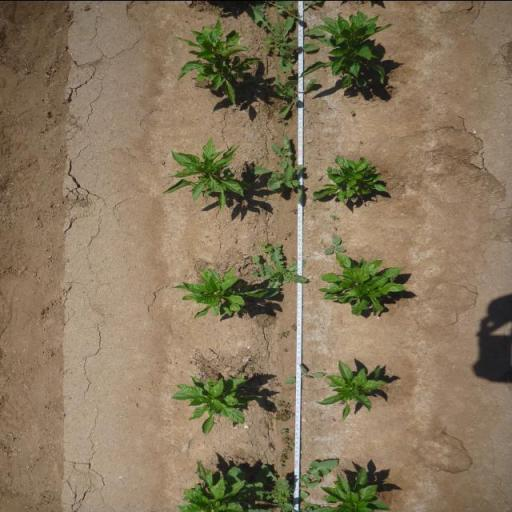plant: (303, 8, 401, 100), (170, 16, 259, 106), (160, 134, 252, 211), (168, 371, 265, 436), (316, 253, 409, 318), (313, 353, 394, 421), (170, 264, 267, 320), (310, 152, 390, 206), (174, 459, 245, 512), (318, 464, 390, 512)
weed: (242, 453, 343, 512), (246, 4, 328, 74), (248, 131, 309, 203), (264, 247, 311, 300), (268, 75, 318, 117), (284, 361, 324, 385), (262, 0, 325, 15), (249, 253, 271, 280), (323, 234, 348, 254), (259, 238, 286, 252), (272, 408, 291, 422), (276, 399, 293, 409), (276, 328, 290, 339), (214, 4, 226, 16), (282, 435, 292, 444), (282, 444, 292, 452), (274, 117, 286, 123), (328, 214, 340, 220), (279, 453, 288, 460), (280, 427, 288, 434), (273, 381, 283, 386), (247, 364, 255, 370), (290, 323, 296, 330), (290, 208, 297, 213)
